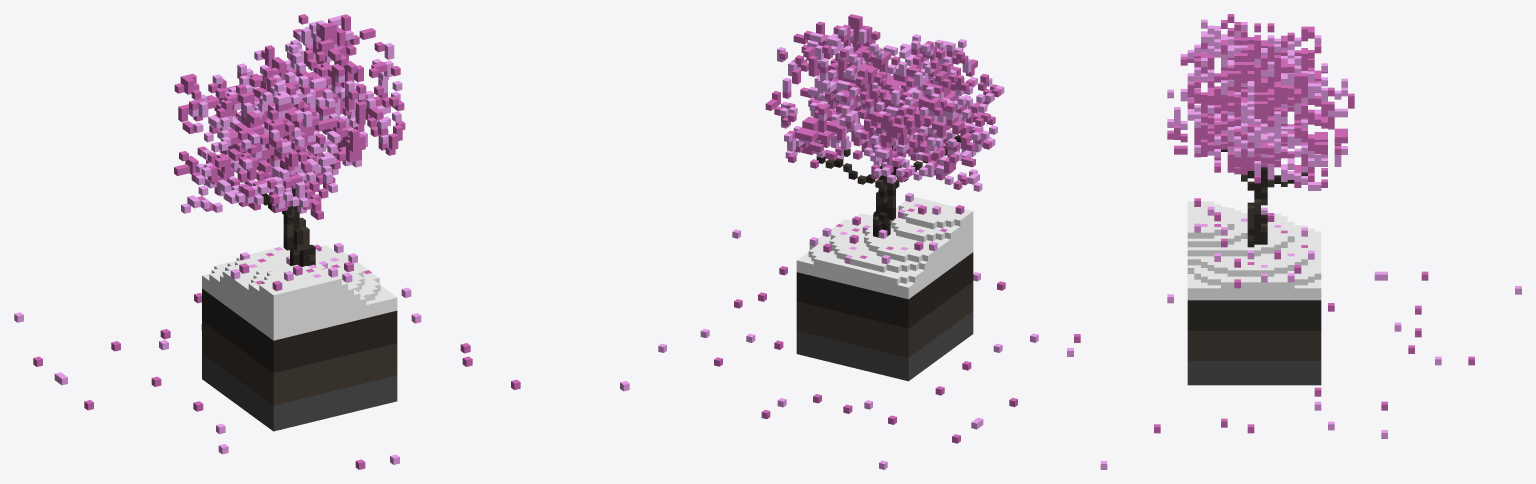
The model's file is japanese_cherry.glb.
3 views of the same model, side by side, from view 1: azimuth 30°, elevation 25°; view 2: azimuth 150°, elevation 25°; view 3: azimuth 270°, elevation 25° (orthographic). The views are drawn at different scales.
Visible parts, largest first — view 1: Object_2; view 2: Object_2; view 3: Object_2.
Part boxes in pixels (x1,y1,x2,y2): Object_2: (14, 14, 629, 469); Object_2: (658, 14, 1038, 469); Object_2: (1067, 14, 1521, 469).
Bounding box in the file's own units: 69 × 55 × 68.
Materials: 1 (1 with a texture image).
